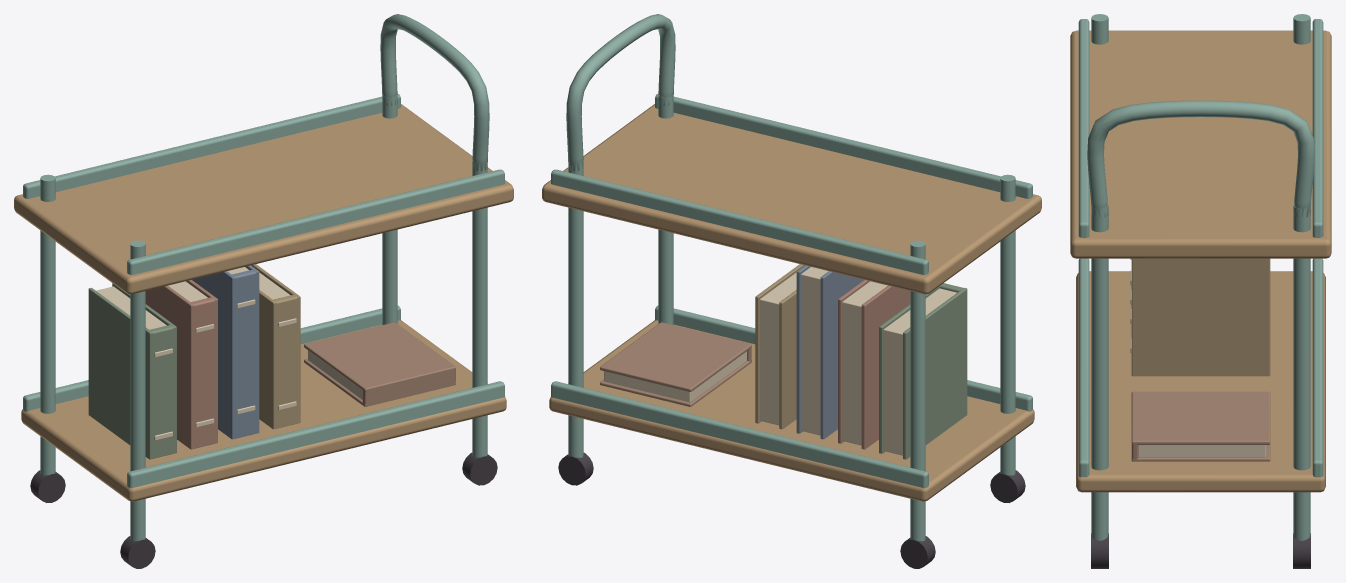
Rendered from booktrolley.glb.
3 renders of one model, left to right at view 1: azimuth 30°, elevation 25°; view 2: azimuth 150°, elevation 25°; view 3: azimuth 270°, elevation 25°, orthographic. The views are drawn at different scales.
Parts seen in each view (by area): view 1: clear-upper-tray, supported-lower-tray, receiving-tray-lip-0-2798964342196751-1, cart-book-0-cover--1, receiving-tray-lip-0-9428090415820635-1, cart-horizontal-folio-cover-0-3308964342196751, receiving-tray-lip-0-9428090415820635--1, cart-book-2-bound-spine, continuous-cart-push-handle, continuous-cart-post--1--1, continuous-cart-post--1-1, continuous-cart-post-1-1 (+15 smaller); view 2: clear-upper-tray, supported-lower-tray, receiving-tray-lip-0-2798964342196751--1, cart-book-0-cover--1, receiving-tray-lip-0-9428090415820635--1, cart-horizontal-folio-cover-0-3308964342196751, receiving-tray-lip-0-9428090415820635-1, continuous-cart-push-handle, continuous-cart-post--1-1, continuous-cart-post--1--1, continuous-cart-post-1--1, cart-book-1-cover--1 (+17 smaller); view 3: clear-upper-tray, supported-lower-tray, cart-book-3-cover-1, cart-horizontal-folio-cover-0-3308964342196751, continuous-cart-push-handle, continuous-cart-post-1--1, continuous-cart-post-1-1, receiving-tray-lip-0-2798964342196751--1, receiving-tray-lip-0-2798964342196751-1, receiving-tray-lip-0-9428090415820635--1, receiving-tray-lip-0-9428090415820635-1, cart-horizontal-folio-pages (+5 smaller).
Part boxes in pixels (left/top/right/bottom): clear-upper-tray: left=14, top=104, right=513, bottom=294; supported-lower-tray: left=21, top=320, right=506, bottom=501; receiving-tray-lip-0-2798964342196751-1: left=127, top=381, right=504, bottom=488; cart-book-0-cover--1: left=88, top=287, right=152, bottom=459; receiving-tray-lip-0-9428090415820635-1: left=127, top=169, right=504, bottom=274; cart-horizontal-folio-cover-0-3308964342196751: left=304, top=322, right=455, bottom=391; receiving-tray-lip-0-9428090415820635--1: left=23, top=94, right=400, bottom=198; cart-book-2-bound-spine: left=229, top=269, right=257, bottom=438; continuous-cart-push-handle: left=380, top=14, right=489, bottom=171; continuous-cart-post--1--1: left=40, top=174, right=55, bottom=475; continuous-cart-post--1-1: left=130, top=240, right=145, bottom=541; continuous-cart-post-1-1: left=472, top=160, right=487, bottom=457; clear-upper-tray: left=542, top=104, right=1041, bottom=294; supported-lower-tray: left=549, top=320, right=1034, bottom=501; receiving-tray-lip-0-2798964342196751--1: left=551, top=381, right=928, bottom=488; cart-book-0-cover--1: left=903, top=287, right=967, bottom=459; receiving-tray-lip-0-9428090415820635--1: left=551, top=169, right=928, bottom=274; cart-horizontal-folio-cover-0-3308964342196751: left=600, top=322, right=751, bottom=391; receiving-tray-lip-0-9428090415820635-1: left=655, top=94, right=1032, bottom=198; continuous-cart-push-handle: left=566, top=14, right=675, bottom=171; continuous-cart-post--1-1: left=1000, top=174, right=1015, bottom=475; continuous-cart-post--1--1: left=910, top=240, right=925, bottom=541; continuous-cart-post-1--1: left=568, top=160, right=583, bottom=457; cart-book-1-cover--1: left=861, top=285, right=910, bottom=449; clear-upper-tray: left=1070, top=30, right=1331, bottom=258; supported-lower-tray: left=1076, top=271, right=1325, bottom=492; cart-book-3-cover-1: left=1131, top=258, right=1270, bottom=376; cart-horizontal-folio-cover-0-3308964342196751: left=1131, top=391, right=1270, bottom=444; continuous-cart-push-handle: left=1087, top=100, right=1314, bottom=217; continuous-cart-post-1--1: left=1293, top=204, right=1310, bottom=540; continuous-cart-post-1-1: left=1091, top=204, right=1108, bottom=540; receiving-tray-lip-0-2798964342196751--1: left=1312, top=258, right=1323, bottom=477; receiving-tray-lip-0-2798964342196751-1: left=1078, top=258, right=1089, bottom=477; receiving-tray-lip-0-9428090415820635--1: left=1312, top=19, right=1323, bottom=237; receiving-tray-lip-0-9428090415820635-1: left=1078, top=19, right=1089, bottom=237; cart-horizontal-folio-pages: left=1138, top=445, right=1266, bottom=457.
Bounding box in the file's own units: 1.27 × 1.3 × 0.66.
